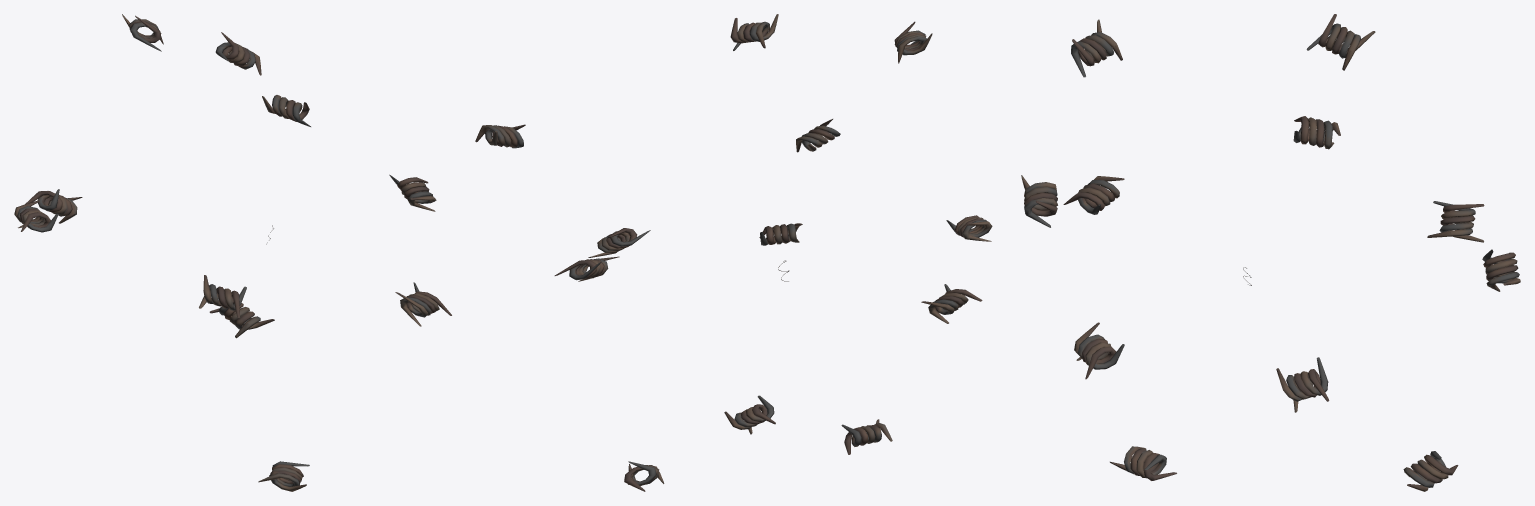
The model's file is barbedSoloqu.glb.
The picture shows the model from 3 angles, left to right: view 1: azimuth 30°, elevation 25°; view 2: azimuth 150°, elevation 25°; view 3: azimuth 270°, elevation 25°; orthographic projection. The views are drawn at different scales.
Visible parts, largest first — view 1: Rail_Wire_6, Rail_Wire_5, Rail_Wire_3, Rail_Wire, Rail_Wire_8, Rail_Wire_11, Rail_Wire_7, Rail_Wire_4, Rail_Wire_10, Rail_Wire_2, Rail_Wire_9; view 2: Rail_Wire_11, Rail_Wire_4, Rail_Wire_3, Rail_Wire, Rail_Wire_8, Rail_Wire_7, Rail_Wire_10, Rail_Wire_5, Rail_Wire_9, Rail_Wire_6, Rail_Wire_2; view 3: Rail_Wire_7, Rail_Wire_6, Rail_Wire_10, Rail_Wire_8, Rail_Wire_9, Rail_Wire_11, Rail_Wire_5, Rail_Wire, Rail_Wire_2, Rail_Wire_3, Rail_Wire_4.
Boxes of the visible parts, x1,y1,x2,y2 form: Rail_Wire_6: [395, 282, 451, 326]; Rail_Wire_5: [199, 275, 246, 317]; Rail_Wire_3: [25, 189, 82, 223]; Rail_Wire: [258, 461, 309, 491]; Rail_Wire_8: [215, 32, 261, 75]; Rail_Wire_11: [475, 124, 525, 148]; Rail_Wire_7: [389, 174, 436, 211]; Rail_Wire_4: [14, 200, 58, 232]; Rail_Wire_10: [262, 95, 310, 126]; Rail_Wire_2: [209, 294, 274, 338]; Rail_Wire_9: [122, 14, 163, 51]; Rail_Wire_11: [730, 14, 778, 50]; Rail_Wire_4: [921, 284, 982, 323]; Rail_Wire_3: [724, 395, 775, 434]; Rail_Wire: [841, 419, 892, 454]; Rail_Wire_8: [588, 228, 650, 257]; Rail_Wire_7: [554, 256, 619, 281]; Rail_Wire_10: [894, 21, 932, 63]; Rail_Wire_5: [946, 215, 992, 241]; Rail_Wire_9: [796, 119, 840, 152]; Rail_Wire_6: [759, 223, 802, 245]; Rail_Wire_2: [624, 461, 664, 491]; Rail_Wire_7: [1276, 357, 1329, 412]; Rail_Wire_6: [1074, 322, 1124, 379]; Rail_Wire_10: [1071, 19, 1122, 77]; Rail_Wire_8: [1427, 201, 1484, 242]; Rail_Wire_9: [1306, 14, 1375, 70]; Rail_Wire_11: [1021, 175, 1057, 227]; Rail_Wire_5: [1063, 176, 1124, 214]; Rail_Wire: [1110, 446, 1176, 480]; Rail_Wire_2: [1403, 451, 1458, 491]; Rail_Wire_3: [1482, 249, 1520, 291]; Rail_Wire_4: [1293, 116, 1340, 149].
Size of the model in its own units: 9.39 by 8.85 by 9.29.
Materials: 1 (1 with a texture image).
